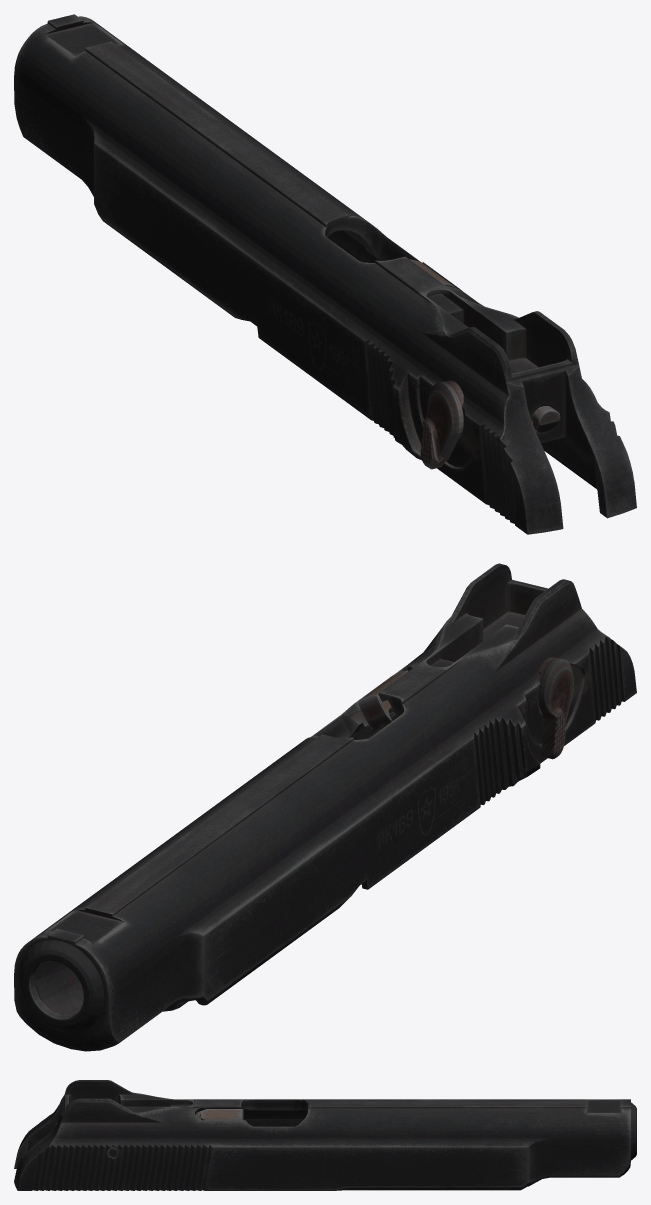
3 renders of one model, top to bottom at view 1: azimuth 30°, elevation 25°; view 2: azimuth 150°, elevation 25°; view 3: azimuth 270°, elevation 25°, orthographic. The views are drawn at different scales.
Parts seen in each view (by area): view 1: TW_5a17f98cfcdbcb0980087290_PZ_Import; view 2: TW_5a17f98cfcdbcb0980087290_PZ_Import; view 3: TW_5a17f98cfcdbcb0980087290_PZ_Import.
Boxes of the visible parts, x1,y1,x2,y2 form: TW_5a17f98cfcdbcb0980087290_PZ_Import: (14, 14, 636, 534); TW_5a17f98cfcdbcb0980087290_PZ_Import: (14, 563, 636, 1051); TW_5a17f98cfcdbcb0980087290_PZ_Import: (14, 1080, 636, 1190).
Bounding box in the file's own units: 0.0171 × 0.1285 × 0.0213.
1 material, 1 textured.
